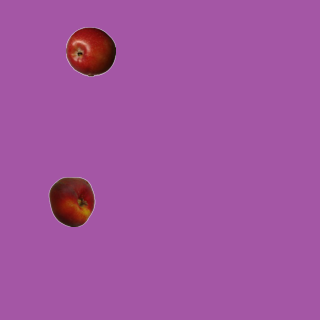Apple Braeburn: (65, 26, 115, 76)
Nectarine Flat: (46, 176, 96, 226)
